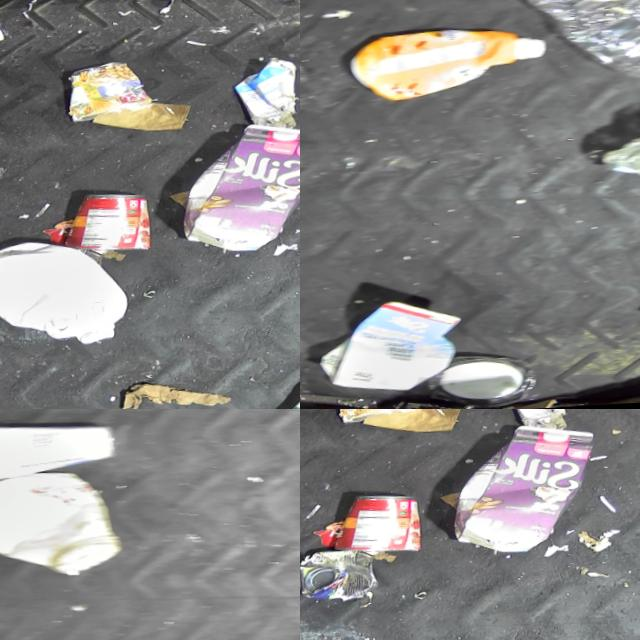can: (64, 191, 156, 256), (335, 492, 427, 557), (66, 59, 155, 126), (300, 546, 382, 605), (336, 409, 426, 427)
milk_jug: (0, 234, 132, 353)
non_white_jug: (449, 423, 595, 560), (345, 22, 550, 111), (177, 121, 300, 258)
plastic_bottle: (515, 0, 640, 90)
